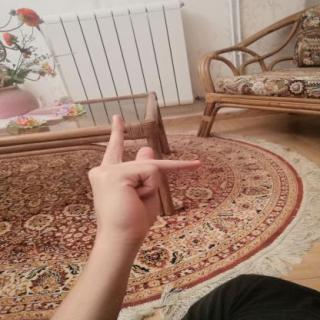DHAA: (78, 109, 210, 245)
